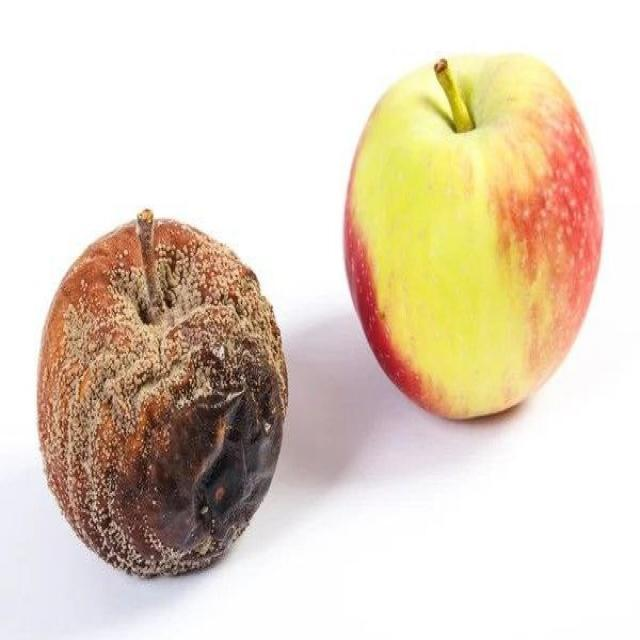Rotten: (345, 60, 600, 415), (45, 228, 283, 578)
